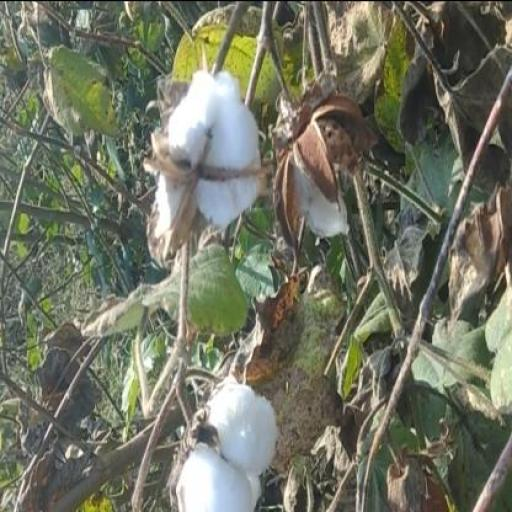cotton_ready: (143, 69, 272, 268)
